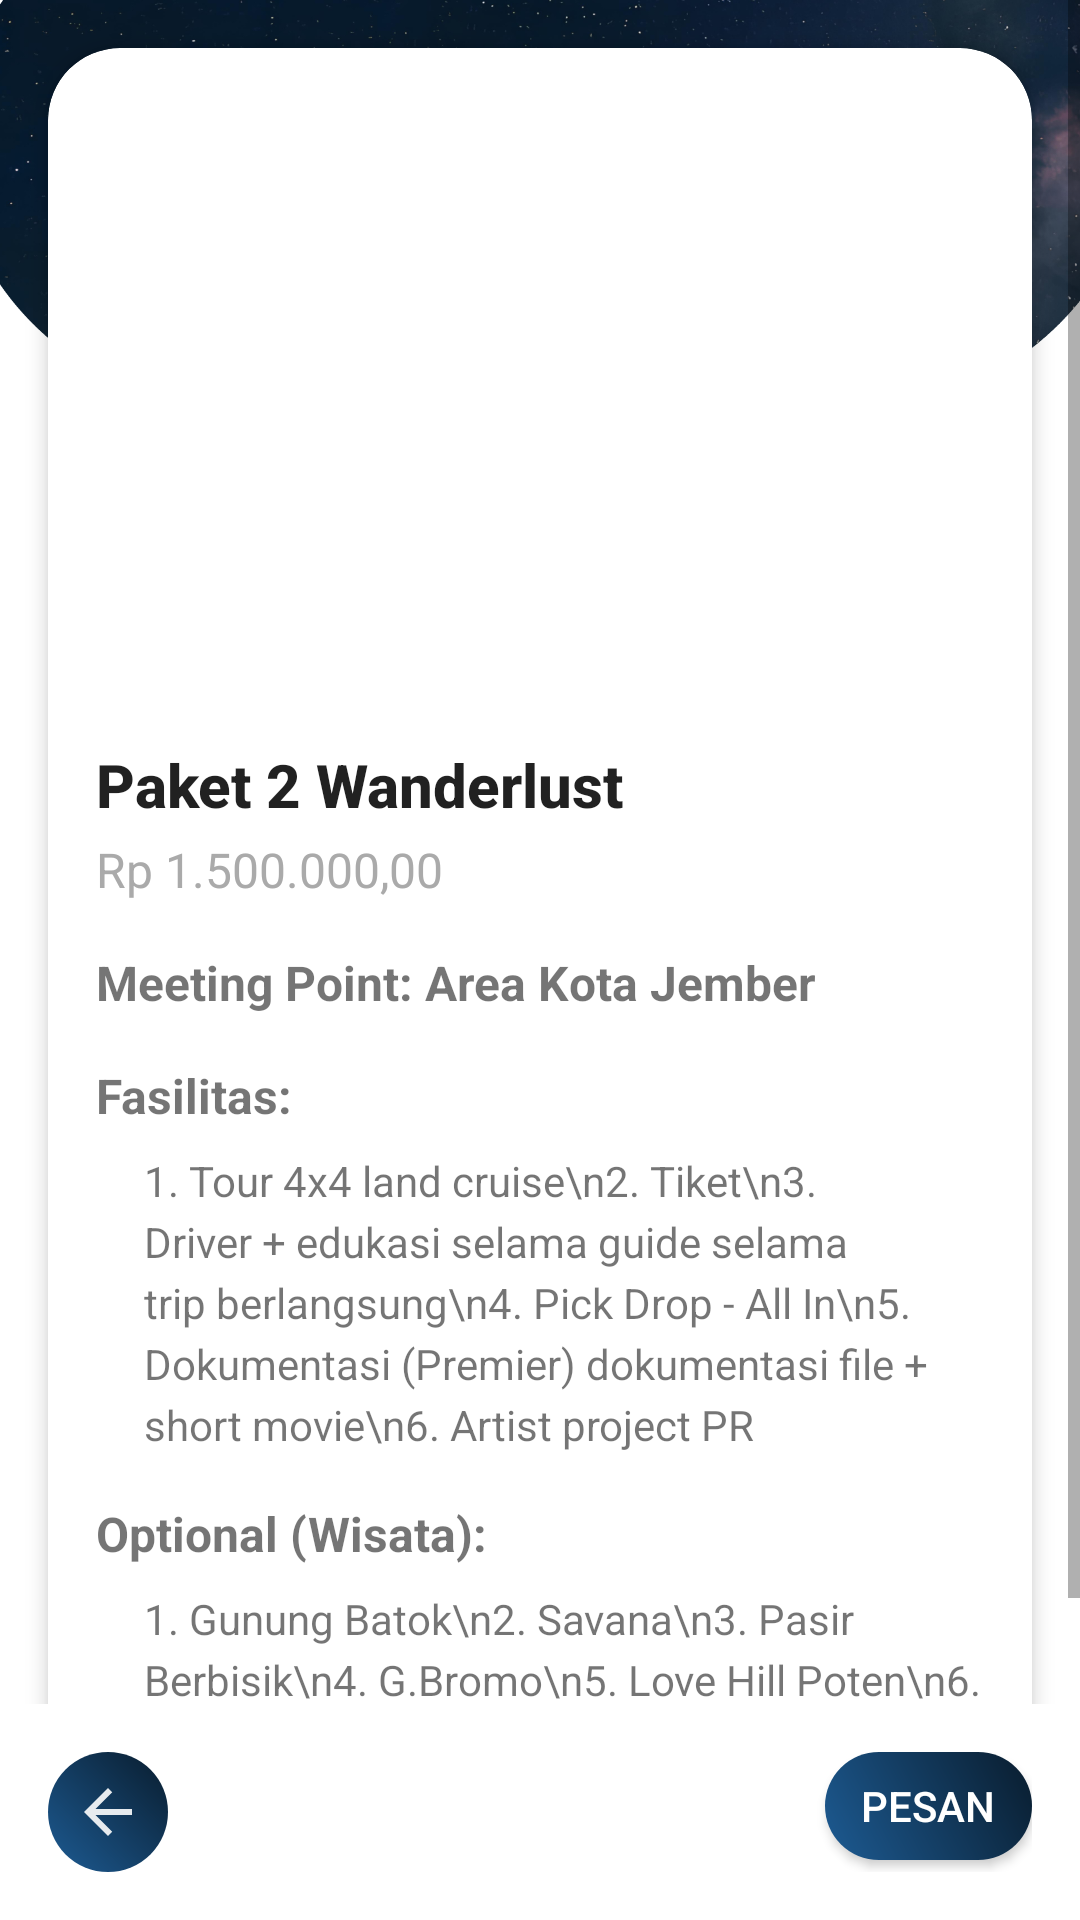

Locate icon controls on the screen. Image size 1080 × 1920, boxes as (x1, y1, x2, y2).
back: (48, 1752, 168, 1872)
